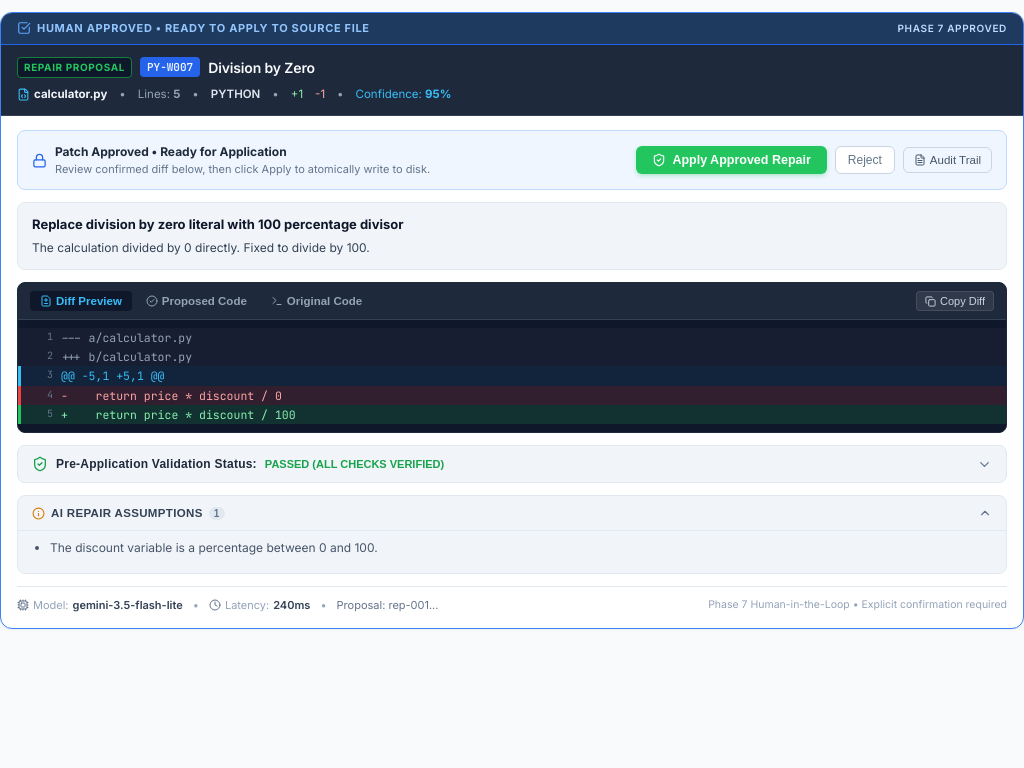
Scenario: Phase 7 Human Approval & Controlled Patch Application Engine › cancelling confirmation modal dismisses without applying
Click the button with test id "apply-repair-btn" at (732, 160), box [636, 146, 827, 174]
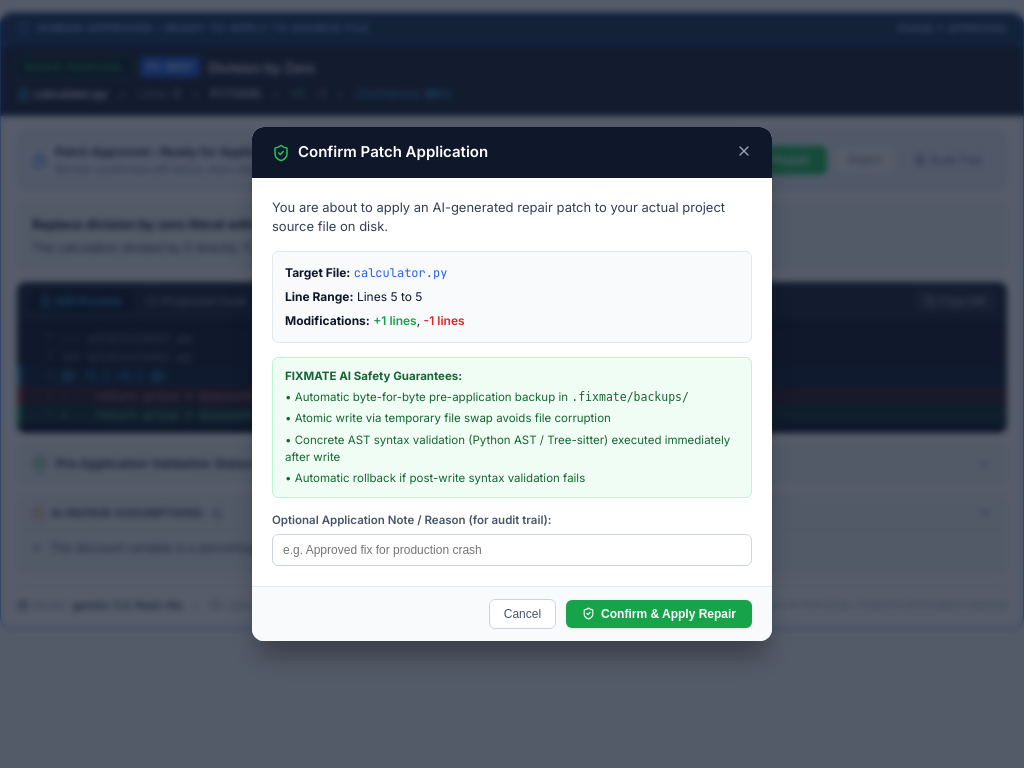
Result: the element with test id "apply-confirmation-dialog" is shown at [252, 127, 772, 641]
Click the button with test id "cancel-apply-modal-btn" at (522, 614), box [489, 599, 556, 629]
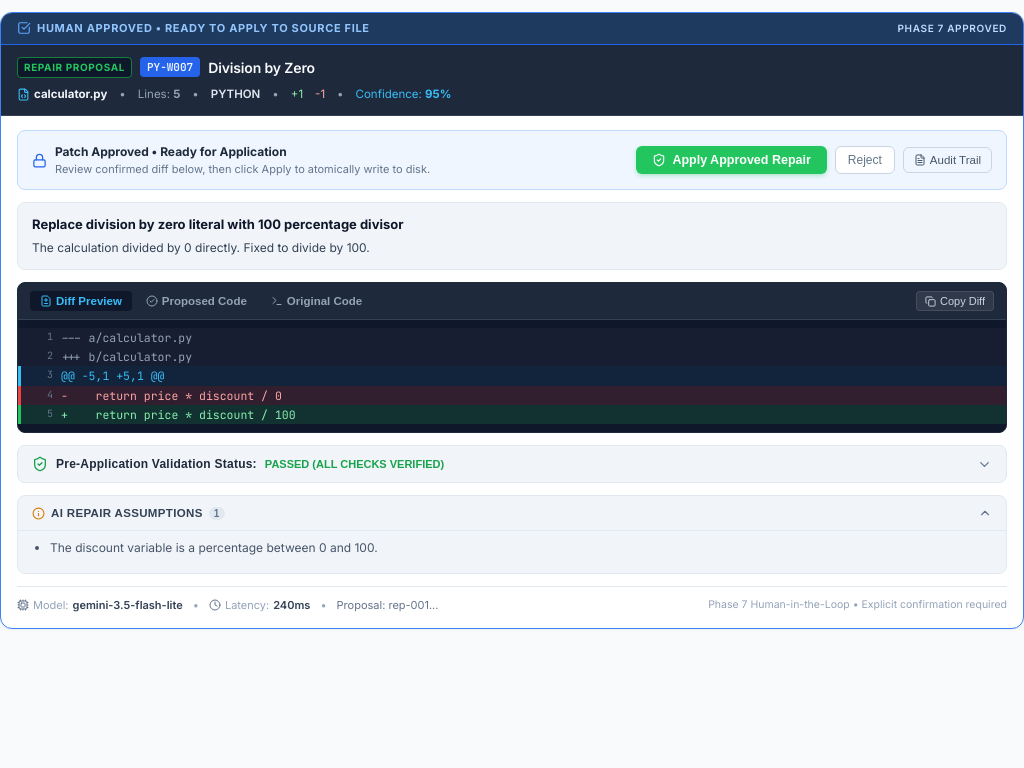
Result: the element with test id "apply-confirmation-dialog" is gone
